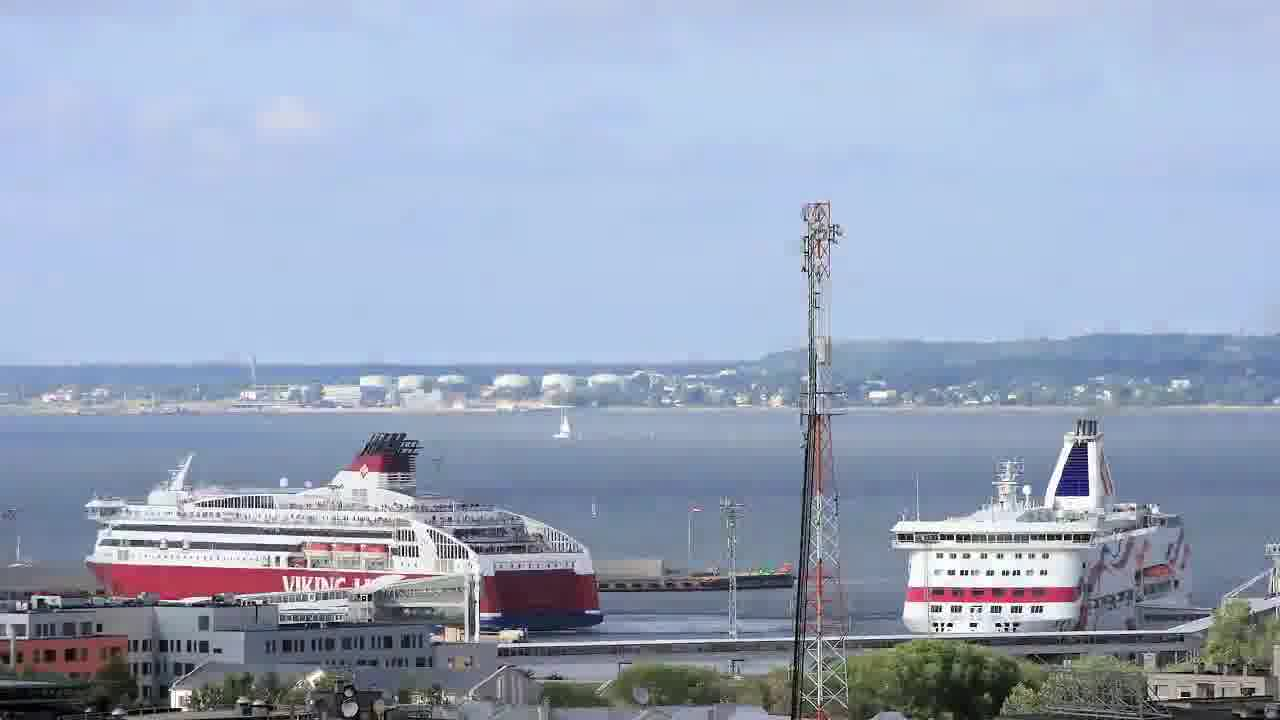type-2: (539, 397, 594, 454)
type-3: (80, 435, 655, 625), (868, 415, 1225, 638)
